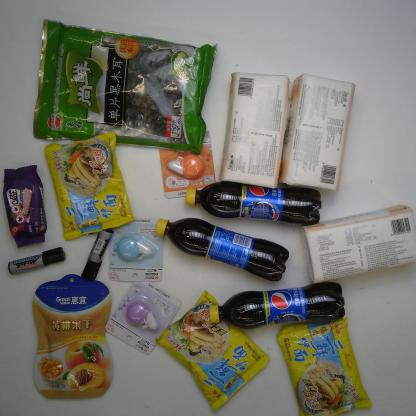Dessert: (3, 164, 48, 248)
Dried Food: (32, 18, 218, 155)
Dried Fruit: (32, 274, 113, 398)
Drink: (155, 218, 289, 281), (209, 281, 345, 328), (186, 181, 322, 225)
Instant Noodles: (155, 289, 270, 411), (44, 132, 134, 240), (276, 318, 374, 414)
Stationery: (104, 275, 181, 354), (155, 130, 218, 199), (107, 214, 163, 282), (81, 228, 114, 281), (7, 247, 66, 274)
Tissue: (278, 74, 355, 191), (302, 205, 415, 284), (219, 72, 289, 189)
